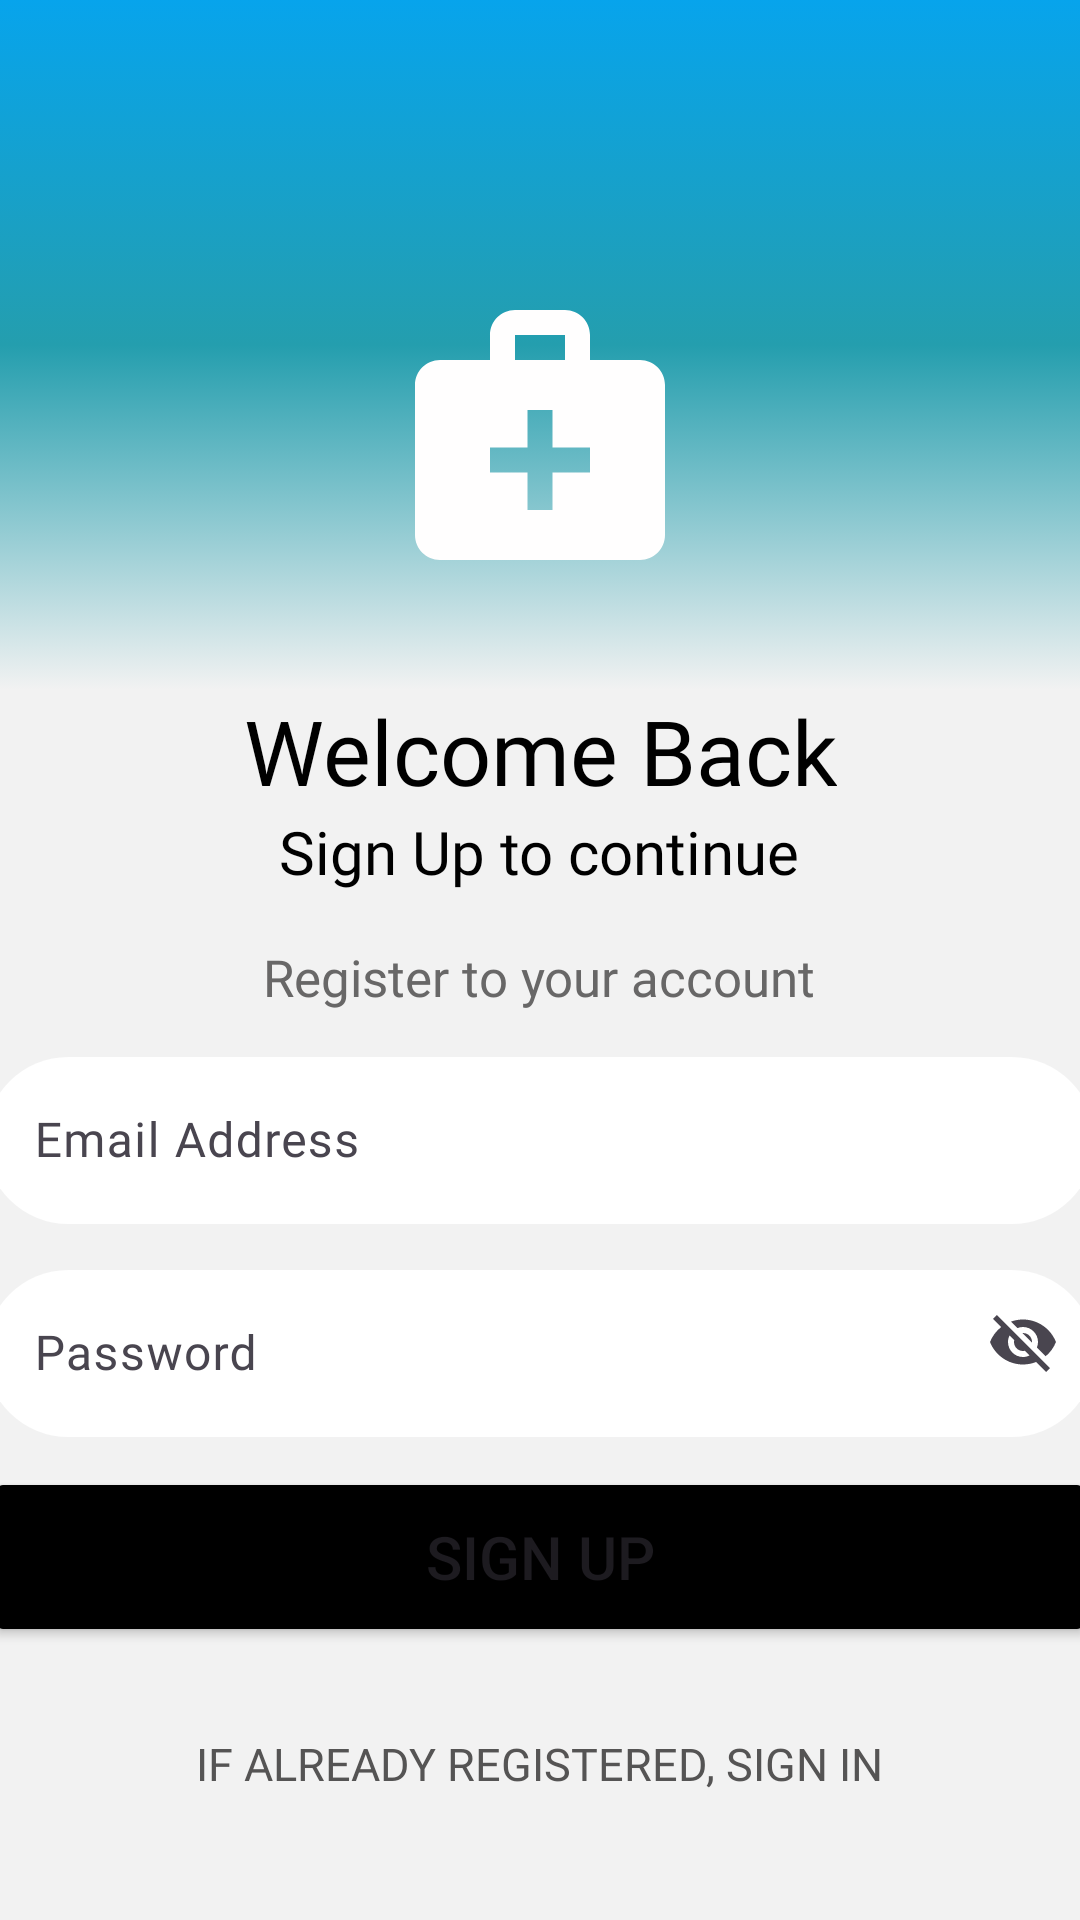

Point at icon controls on the screen. Image size 1080px x 1920px, points as (x=x, y=y).
medical services: (x=540, y=435)
